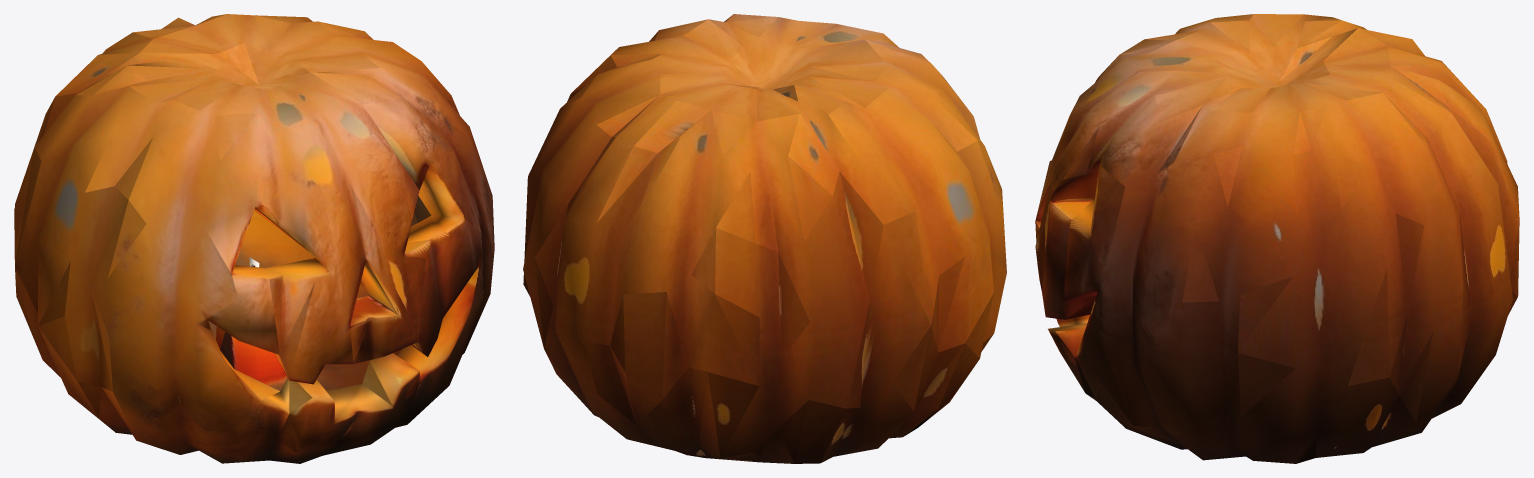
The model's file is bal_kabagi.glb.
3 views of the same model, side by side, from view 1: azimuth 30°, elevation 25°; view 2: azimuth 150°, elevation 25°; view 3: azimuth 270°, elevation 25° (orthographic).
Parts seen in each view (by area): view 1: tripo_node_ad94bfb5-fa1f-46e1-b0a1-1a2b97147f29; view 2: tripo_node_ad94bfb5-fa1f-46e1-b0a1-1a2b97147f29; view 3: tripo_node_ad94bfb5-fa1f-46e1-b0a1-1a2b97147f29.
Part boxes in pixels (x1,y1,x2,y2): tripo_node_ad94bfb5-fa1f-46e1-b0a1-1a2b97147f29: [14, 14, 494, 463]; tripo_node_ad94bfb5-fa1f-46e1-b0a1-1a2b97147f29: [523, 14, 1006, 463]; tripo_node_ad94bfb5-fa1f-46e1-b0a1-1a2b97147f29: [1035, 14, 1519, 463].
Size of the model in its own units: 0.9774 by 0.7814 by 0.9751.
Materials: 1 (1 with a texture image).
